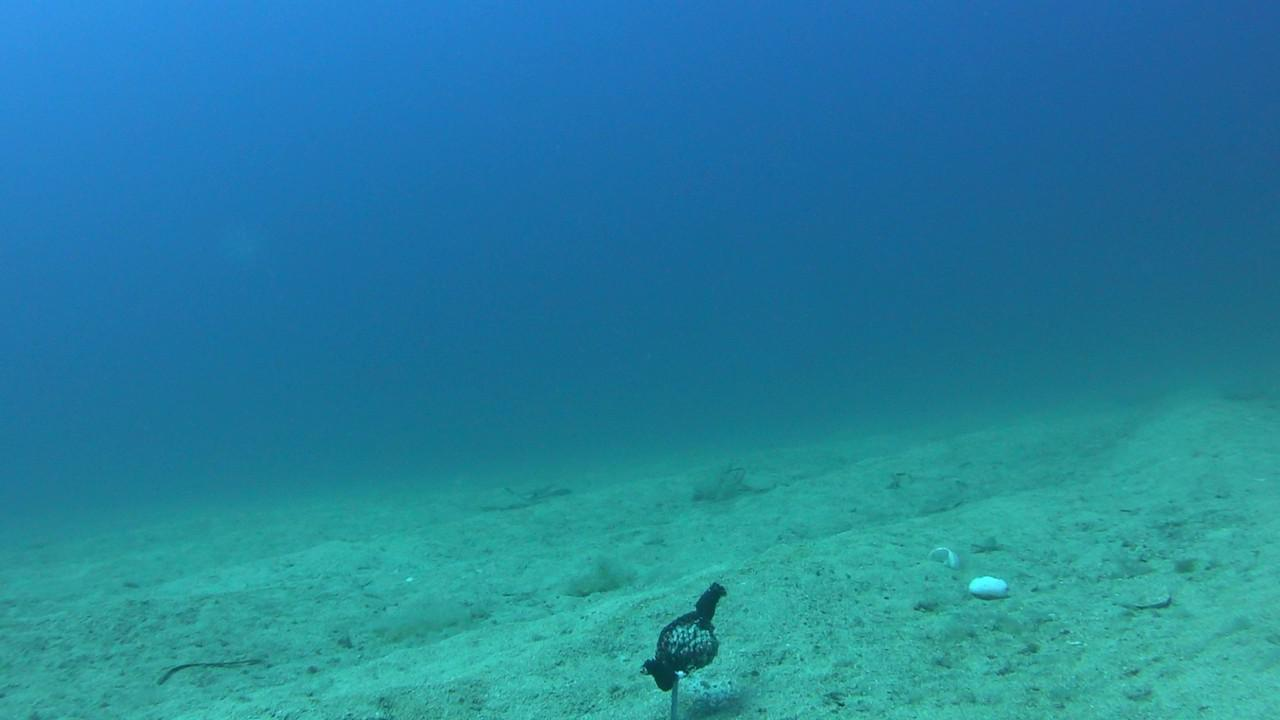myliobatis: (476, 461, 583, 512)
